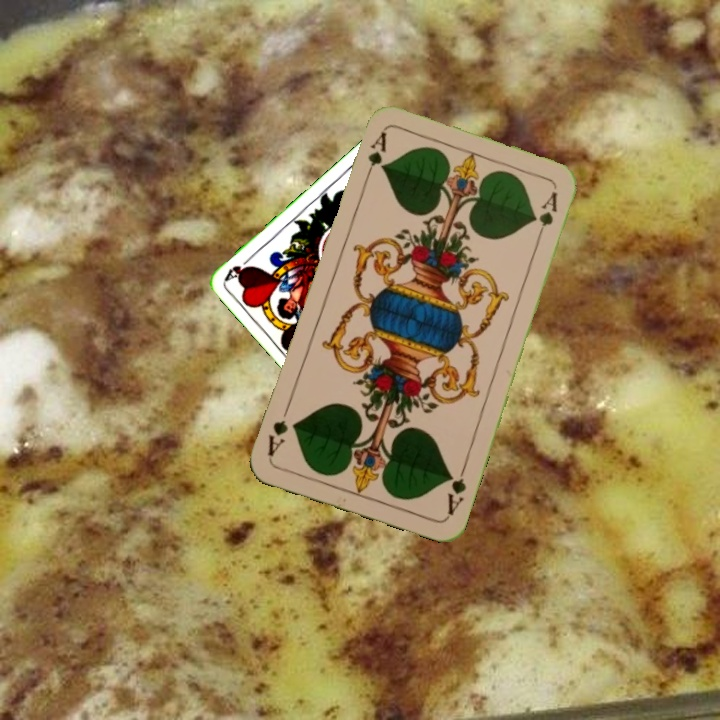GA: (360, 127, 389, 185), (443, 460, 469, 518)
